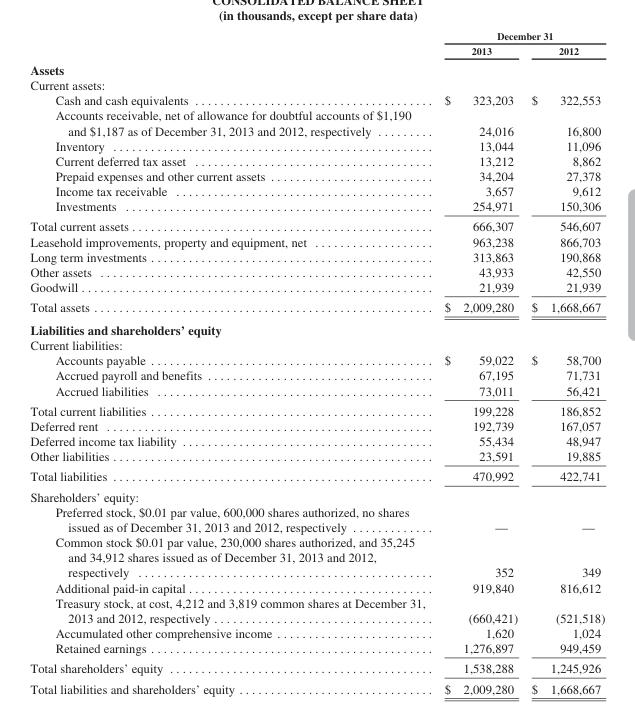table: (29, 29, 604, 695)
table column: (29, 29, 434, 695), (434, 29, 523, 695), (523, 29, 604, 695)
table column header: (29, 29, 604, 59)
table projected row header: (29, 318, 604, 337), (29, 59, 604, 77), (29, 486, 604, 503), (29, 77, 604, 92), (29, 337, 604, 352)
table row: (29, 534, 604, 579), (29, 503, 604, 534), (29, 594, 604, 625), (29, 107, 604, 137), (29, 296, 604, 318), (29, 657, 604, 678), (29, 466, 604, 486), (29, 318, 604, 337), (29, 59, 604, 77), (29, 198, 604, 216), (29, 382, 604, 400), (29, 400, 604, 418), (29, 448, 604, 466), (29, 42, 604, 59), (29, 216, 604, 233), (29, 279, 604, 296), (29, 486, 604, 503), (29, 640, 604, 657), (29, 678, 604, 695), (29, 152, 604, 168), (29, 248, 604, 264), (29, 77, 604, 92), (29, 92, 604, 107), (29, 137, 604, 152), (29, 168, 604, 183), (29, 183, 604, 198), (29, 233, 604, 248), (29, 264, 604, 279), (29, 337, 604, 352), (29, 352, 604, 367), (29, 367, 604, 382), (29, 418, 604, 433), (29, 433, 604, 448), (29, 579, 604, 594), (29, 625, 604, 640), (29, 29, 604, 42)
table spanning cell: (434, 29, 604, 42)
